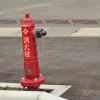a fire hydrant: (21, 16, 41, 86)
